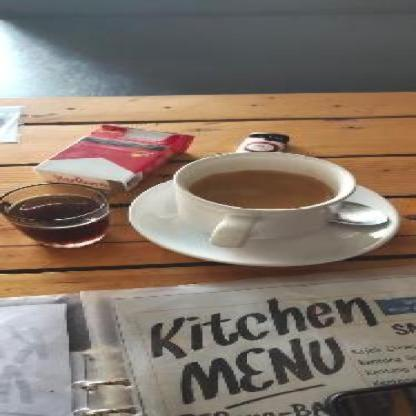objects: (32, 125, 193, 192)
